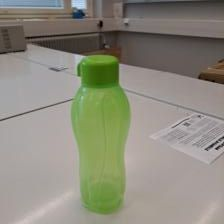bottle: (70, 51, 131, 208)
